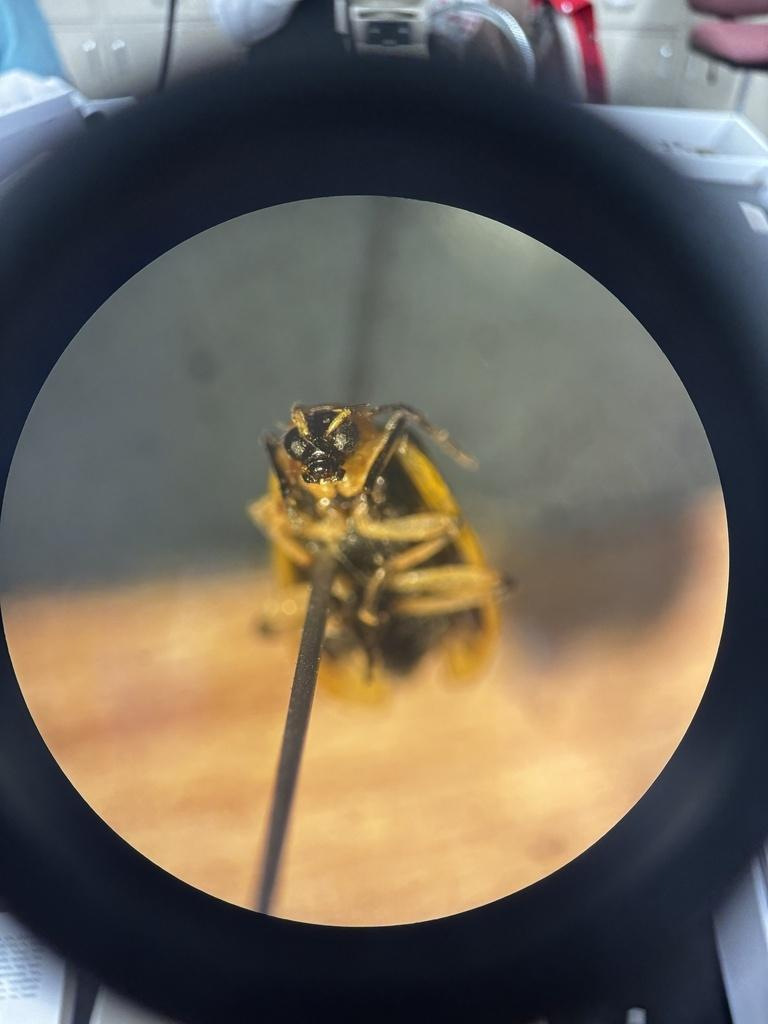potato_beetle: (164, 323, 550, 766)
